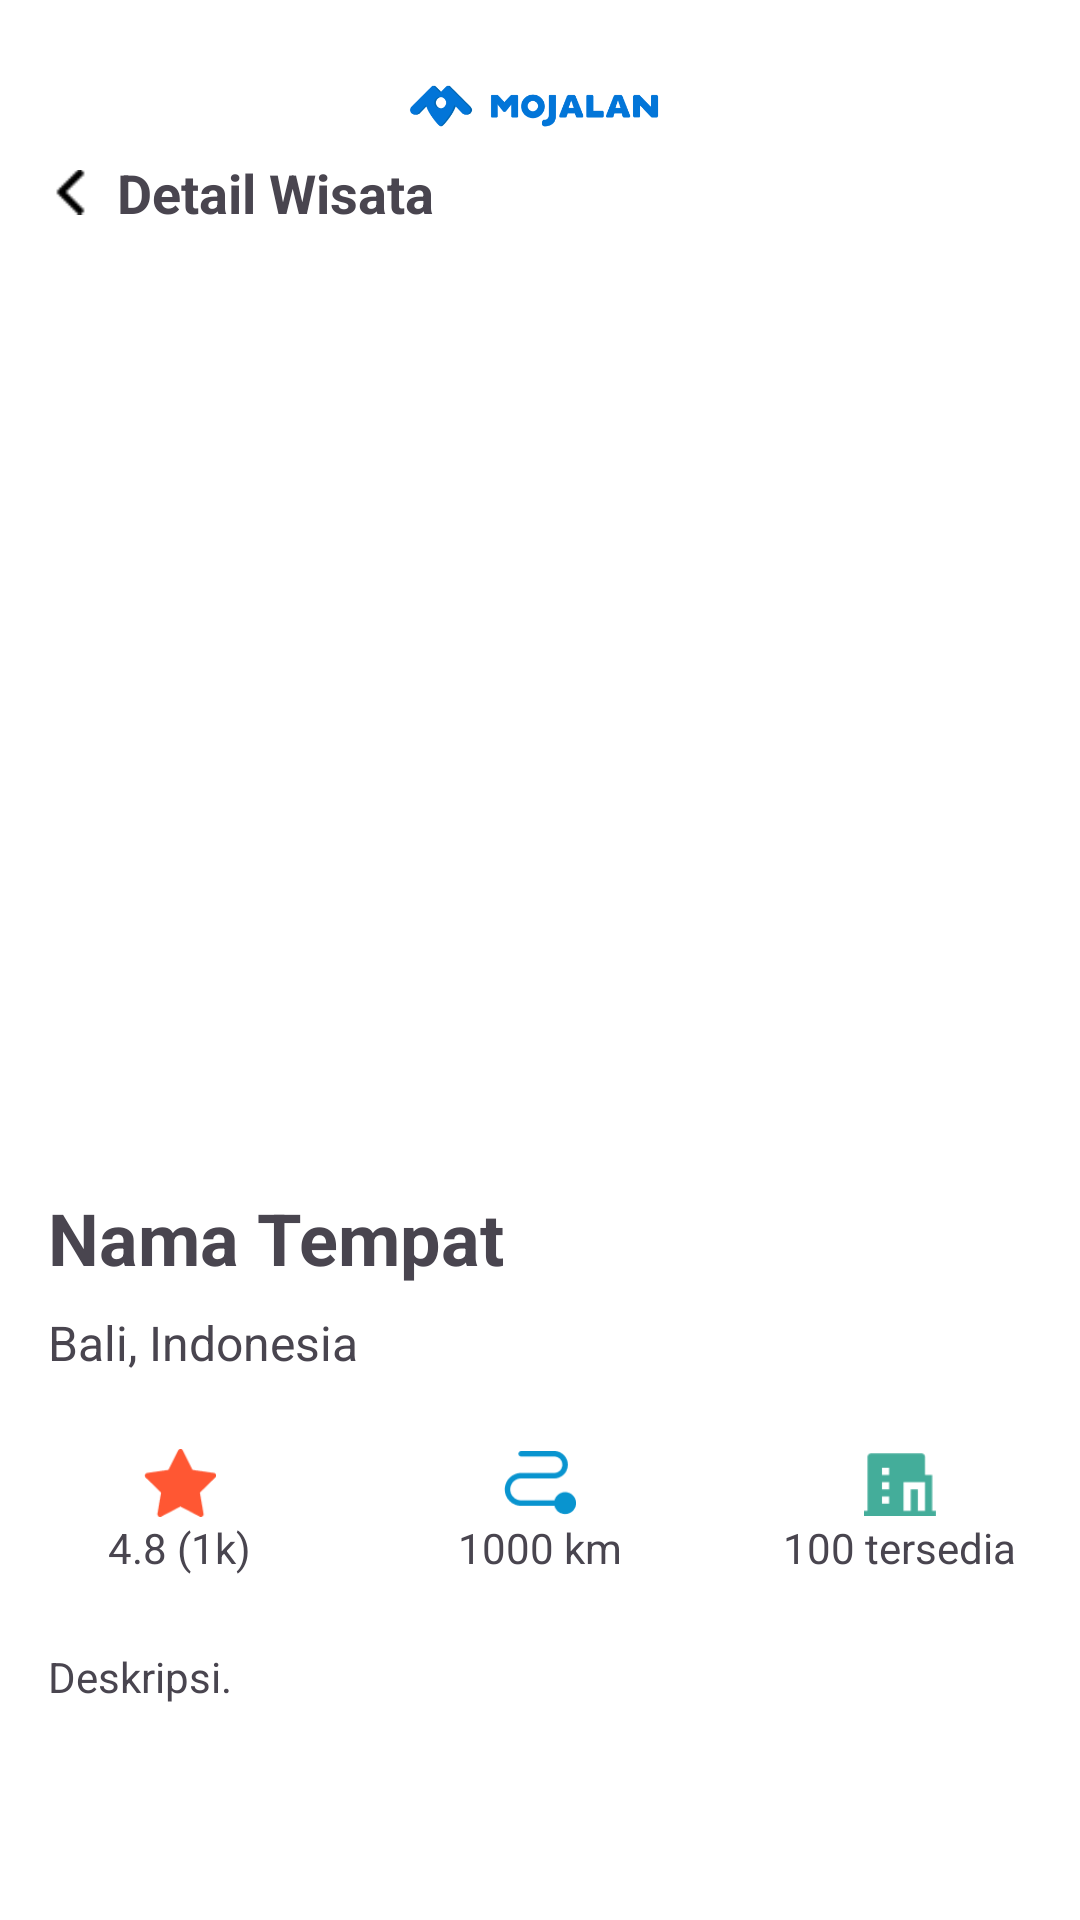

Screen size 1080x1920. Icon name, then its center in pixels as (x=x, y=y):
Back button: (x=70, y=192)
Distance icon: (x=540, y=1483)
Rating icon: (x=180, y=1483)
